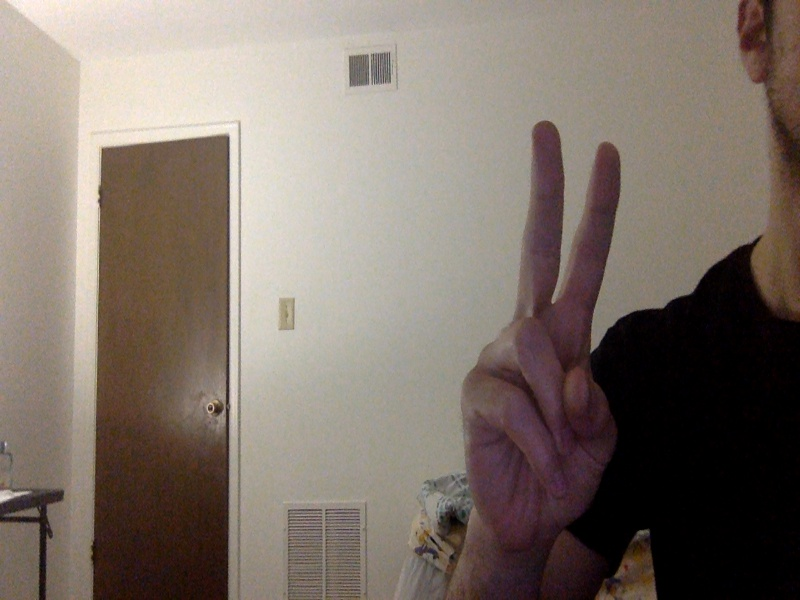2-hand: (456, 118, 621, 556)
